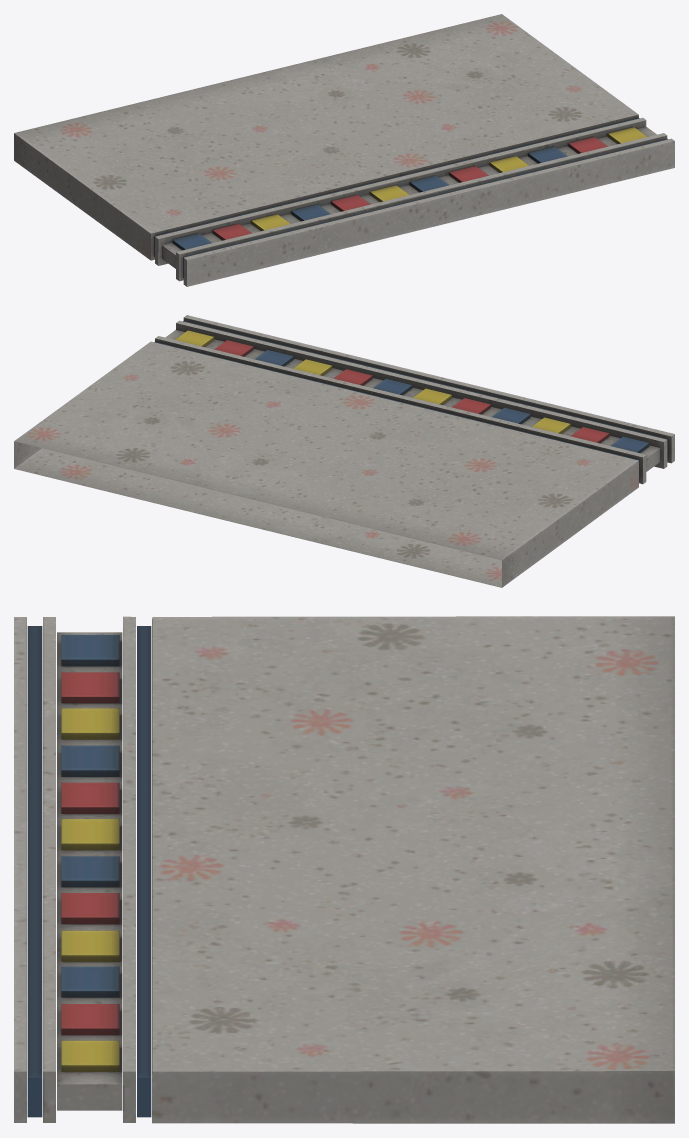
The model's file is nt_kitchen_wall_LOD1.obj.
The picture shows the model from 3 angles, top to bottom: view 1: azimuth 30°, elevation 25°; view 2: azimuth 150°, elevation 25°; view 3: azimuth 270°, elevation 25°; orthographic projection. The views are drawn at different scales.
Visible parts, largest first — view 1: mtl_nt_kitchen_wall; view 2: mtl_nt_kitchen_wall; view 3: mtl_nt_kitchen_wall.
Part boxes in pixels (<box>): mtl_nt_kitchen_wall: <box>14,14,674,286</box>; mtl_nt_kitchen_wall: <box>14,315,674,587</box>; mtl_nt_kitchen_wall: <box>14,616,674,1123</box>.
Size of the model in its own units: 188 by 10.16 by 115.
